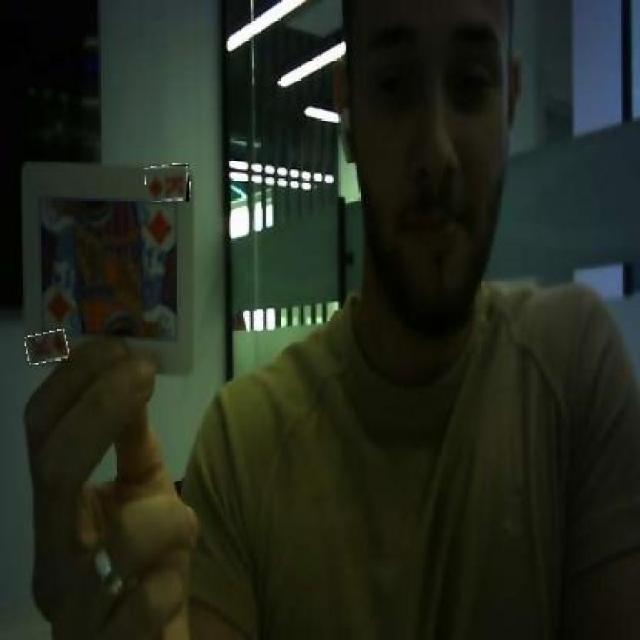KD: (146, 164, 189, 202), (26, 332, 69, 363)
